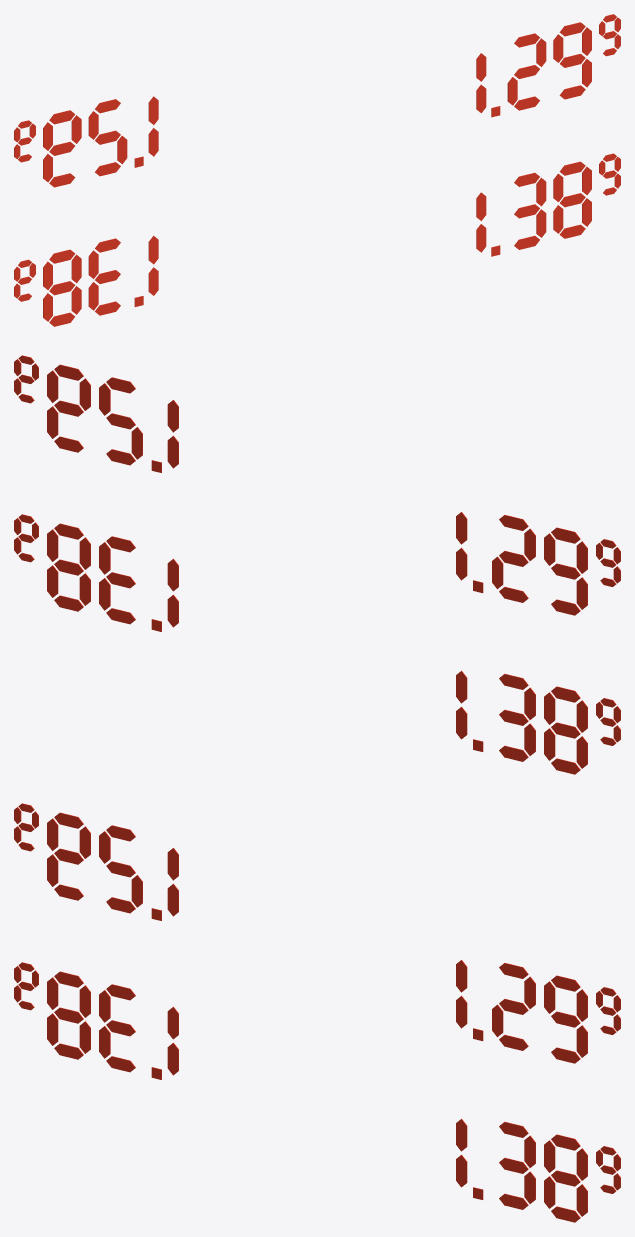
File: digits.obj
3 renders of one model, top to bottom at view 1: azimuth 30°, elevation 25°; view 2: azimuth 150°, elevation 25°; view 3: azimuth 330°, elevation 25°, orthographic. The views are drawn at different scales.
Bounding box in the file's own units: 3.42 × 1.22 × 0.394.
